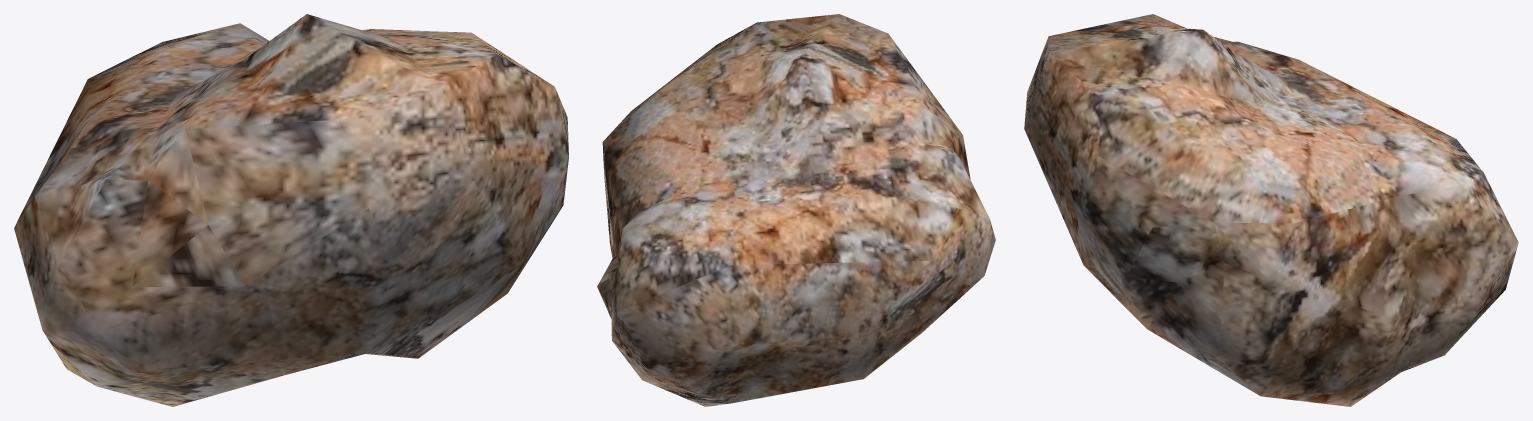
File: rock053.glb
3 views of the same model, side by side, from view 1: azimuth 30°, elevation 25°; view 2: azimuth 150°, elevation 25°; view 3: azimuth 270°, elevation 25° (orthographic). The views are drawn at different scales.
Visible parts, largest first — view 1: rock053; view 2: rock053; view 3: rock053.
Boxes of the visible parts, x1,y1,x2,y2 form: rock053: (14,14,568,406); rock053: (597,14,995,406); rock053: (1024,14,1518,406).
Bounding box in the file's own units: 0.9159 × 0.7372 × 0.9665.
Materials: 1 (1 with a texture image).
